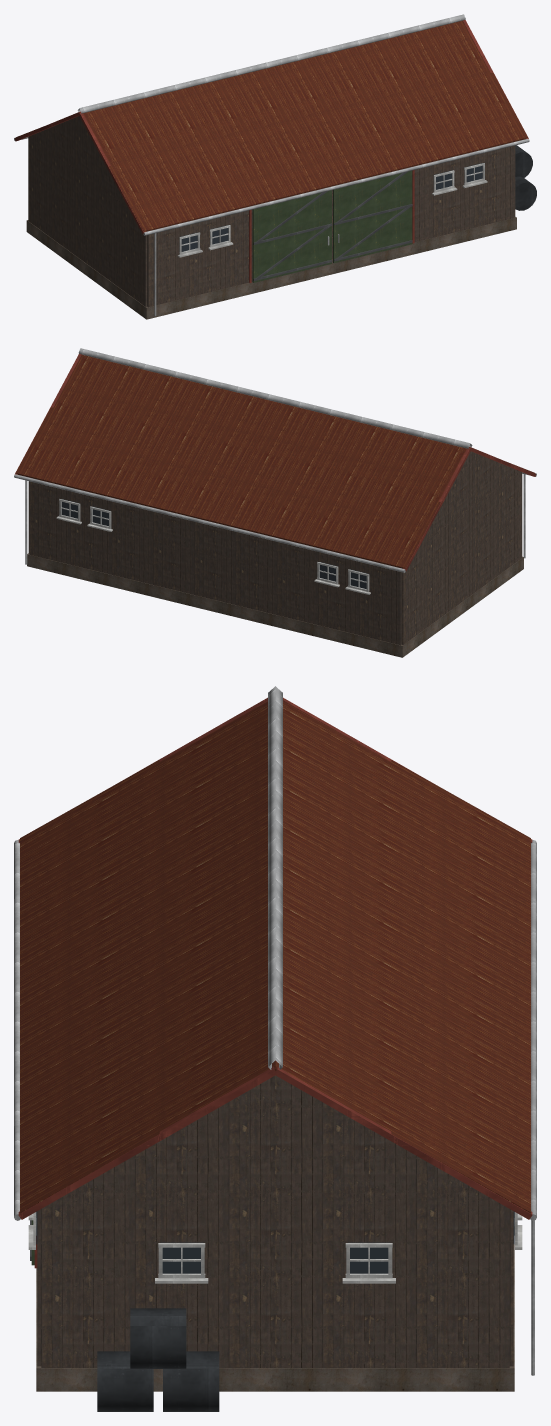
The model's file is barn.glb.
The picture shows the model from 3 angles, top to bottom: view 1: azimuth 30°, elevation 25°; view 2: azimuth 150°, elevation 25°; view 3: azimuth 270°, elevation 25°; orthographic projection. The views are drawn at different scales.
Parts seen in each view (by area): view 1: barn; view 2: barn; view 3: barn.
Boxes of the visible parts, bbox=[...] form: barn: bbox=[14, 14, 536, 319]; barn: bbox=[14, 348, 536, 657]; barn: bbox=[14, 686, 536, 1411].
Size of the model in its own units: 20.51 by 7.96 by 11.16.
Materials: 10 (9 with a texture image).
